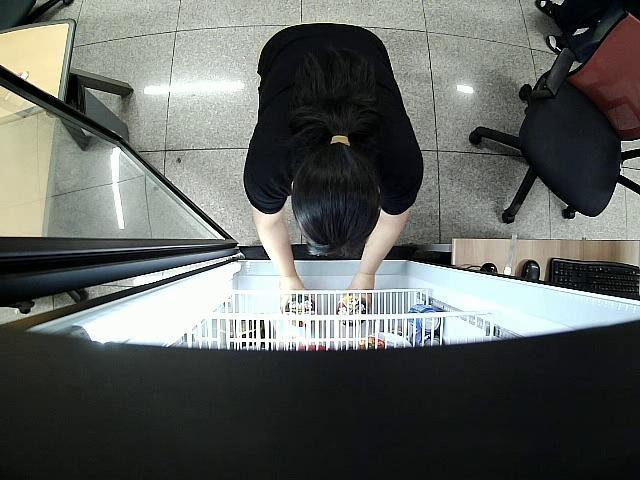08_buldak_S: (332, 292, 371, 324), (284, 293, 316, 328)
